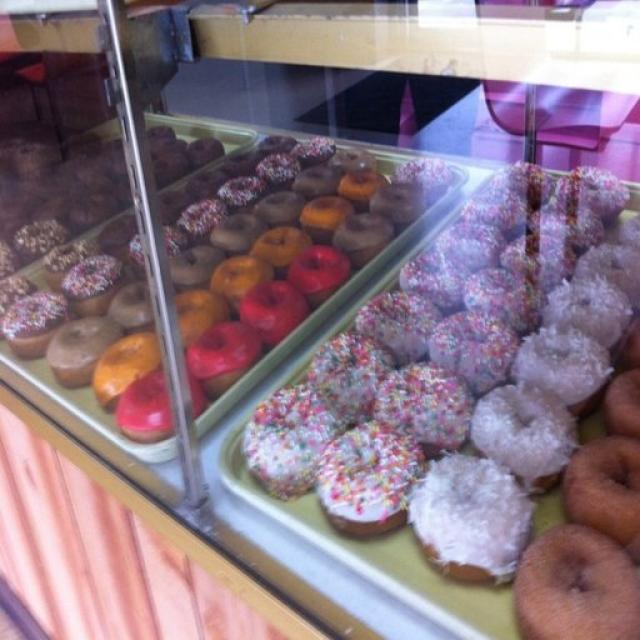Donuts: (2, 110, 640, 632)
